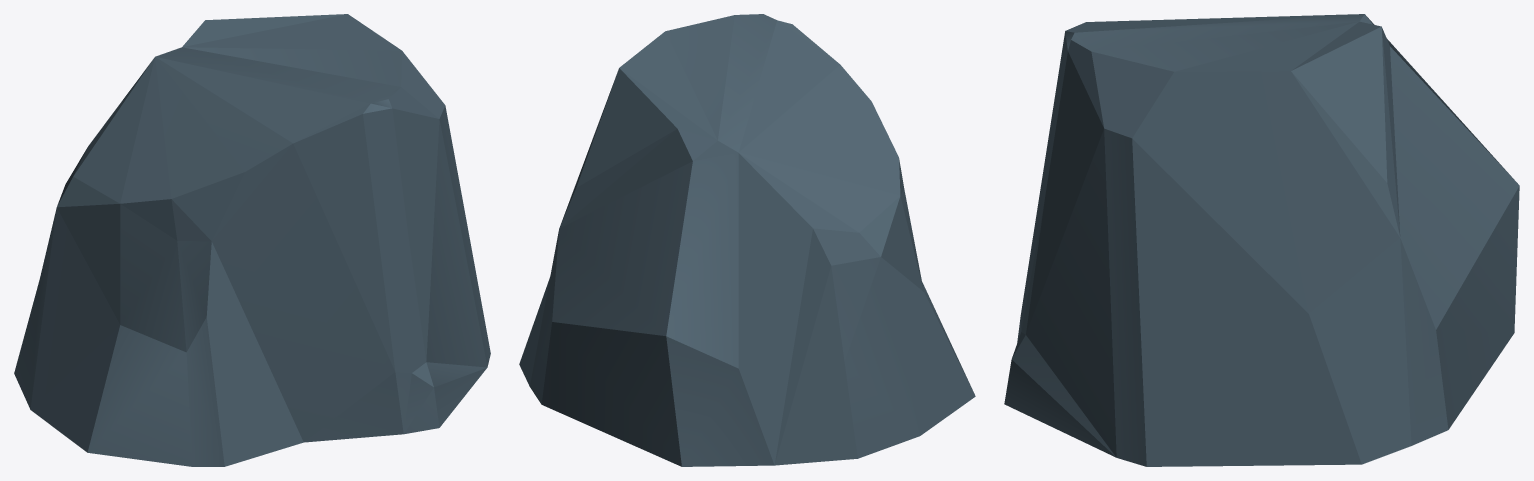
File: Rock_2 Asia.fbx
The picture shows the model from 3 angles, left to right: view 1: azimuth 30°, elevation 25°; view 2: azimuth 150°, elevation 25°; view 3: azimuth 270°, elevation 25°; orthographic projection. The views are drawn at different scales.
Parts seen in each view (by area): view 1: Rock_2; view 2: Rock_2; view 3: Rock_2.
Boxes of the visible parts, x1=… form: Rock_2: x1=14, y1=14, x2=490, y2=466; Rock_2: x1=519, y1=14, x2=975, y2=466; Rock_2: x1=1004, y1=14, x2=1519, y2=466.
Size of the model in its own units: 5.14 by 3.9 by 5.08.
